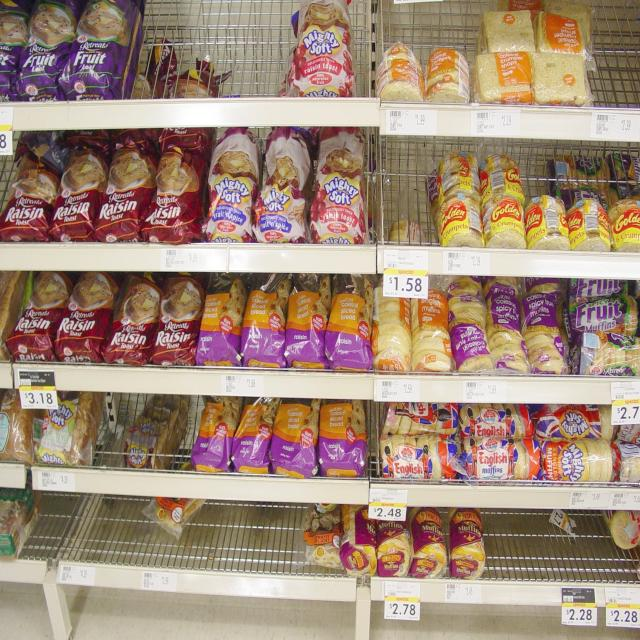empty_space: (45, 513, 295, 575), (151, 7, 273, 85), (502, 525, 606, 574), (100, 403, 184, 457), (387, 143, 425, 235), (608, 17, 640, 103)
